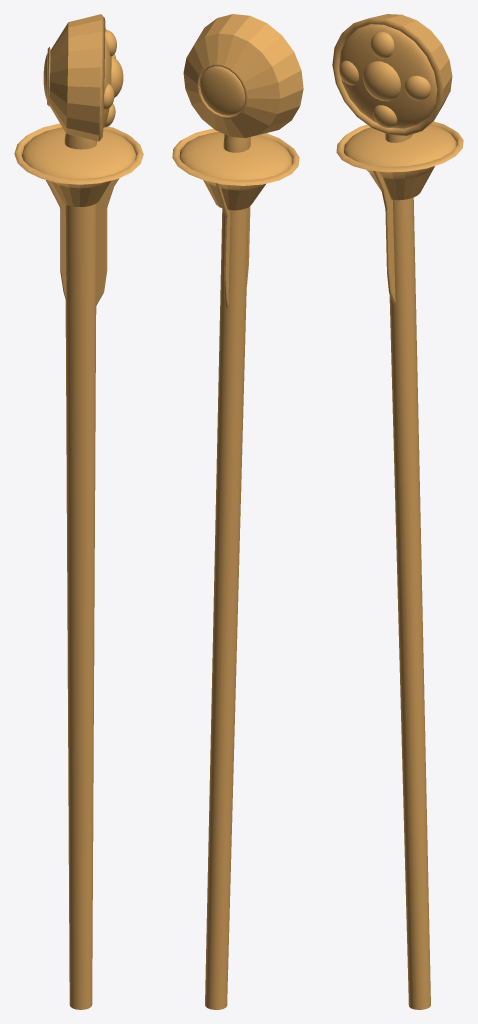
File: mm stick.fbx
3 views of the same model, side by side, from view 1: azimuth 90°, elevation 25°; view 2: azimuth 150°, elevation 25°; view 3: azimuth 330°, elevation 25° (orthographic).
Visible parts, largest first — view 1: MM_neww:pCube3; view 2: MM_neww:pCube3; view 3: MM_neww:pCube3.
Boxes of the visible parts, x1,y1,x2,y2 form: MM_neww:pCube3: (14, 14, 143, 1009); MM_neww:pCube3: (172, 14, 303, 1009); MM_neww:pCube3: (332, 14, 463, 1009).
Bounding box in the file's own units: 1.73 × 14.47 × 1.7.
